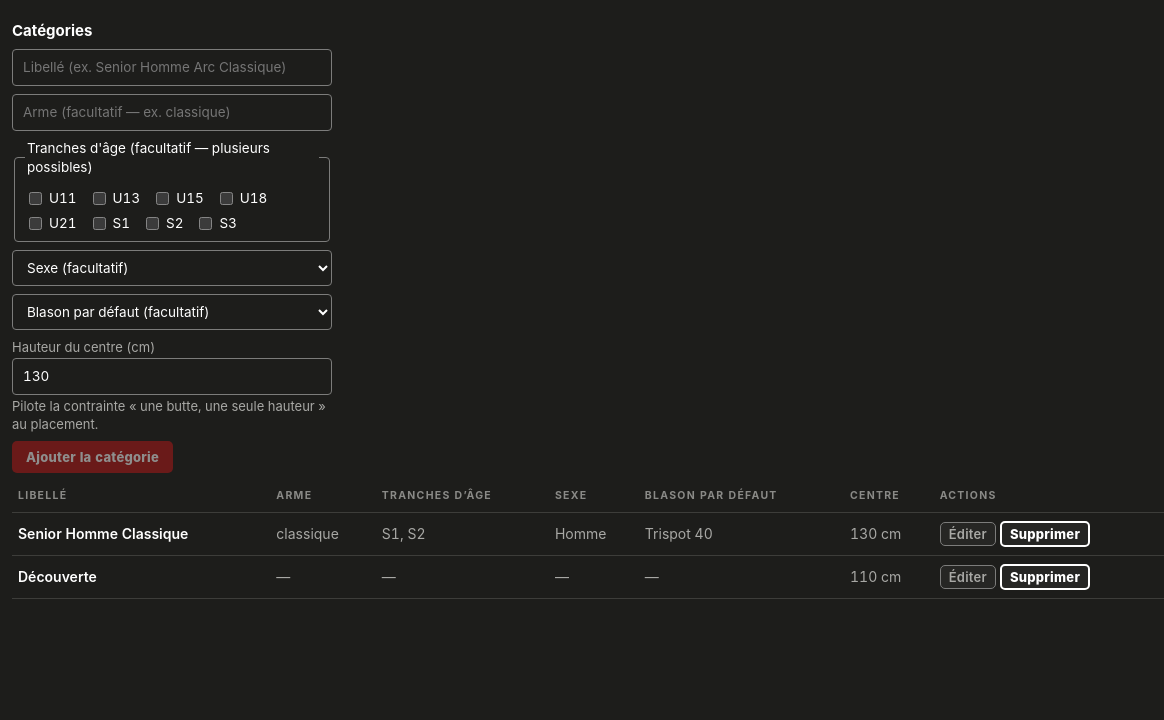
Test: Catégories — tableau › « Éditer » remplace la ligne par le formulaire pré-rempli
The image size is (1164, 720).
What coordinates should you click on to do the following:
click the button with aria-label "Éditer Découverte"
I would click on:
 (968, 577)
Its box is [940,565,996,589].
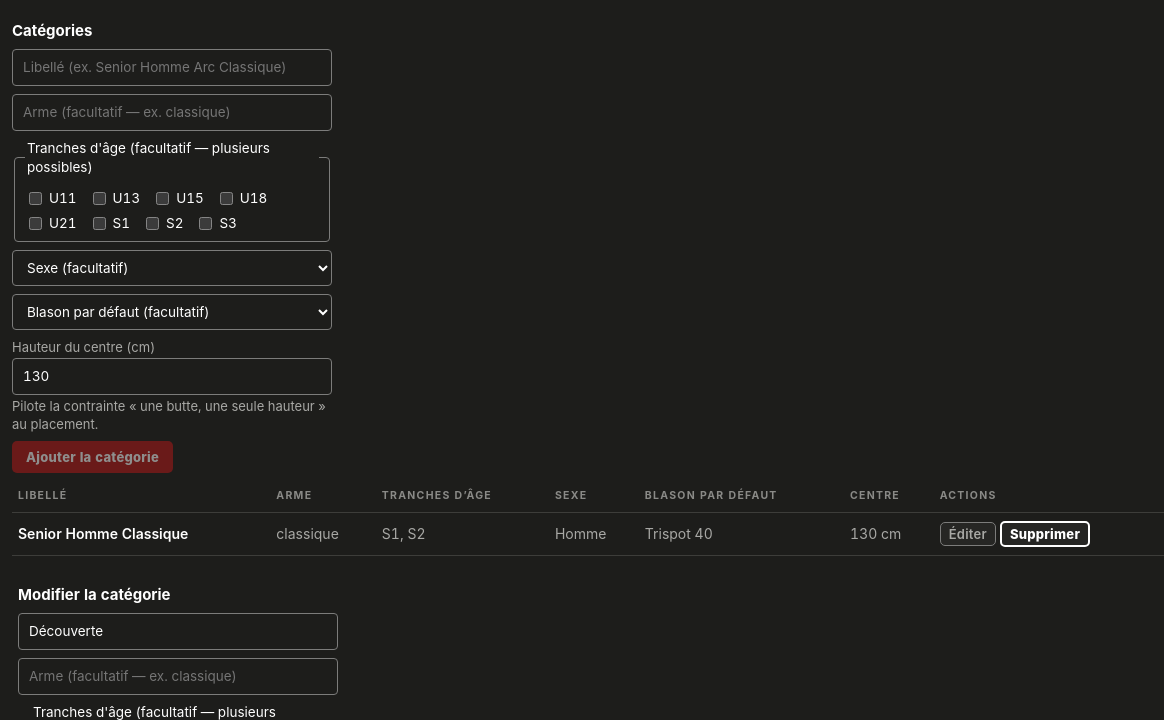
Check: the field named "Libellé de la catégorie" holds "Découverte", box [18,613,338,650]
